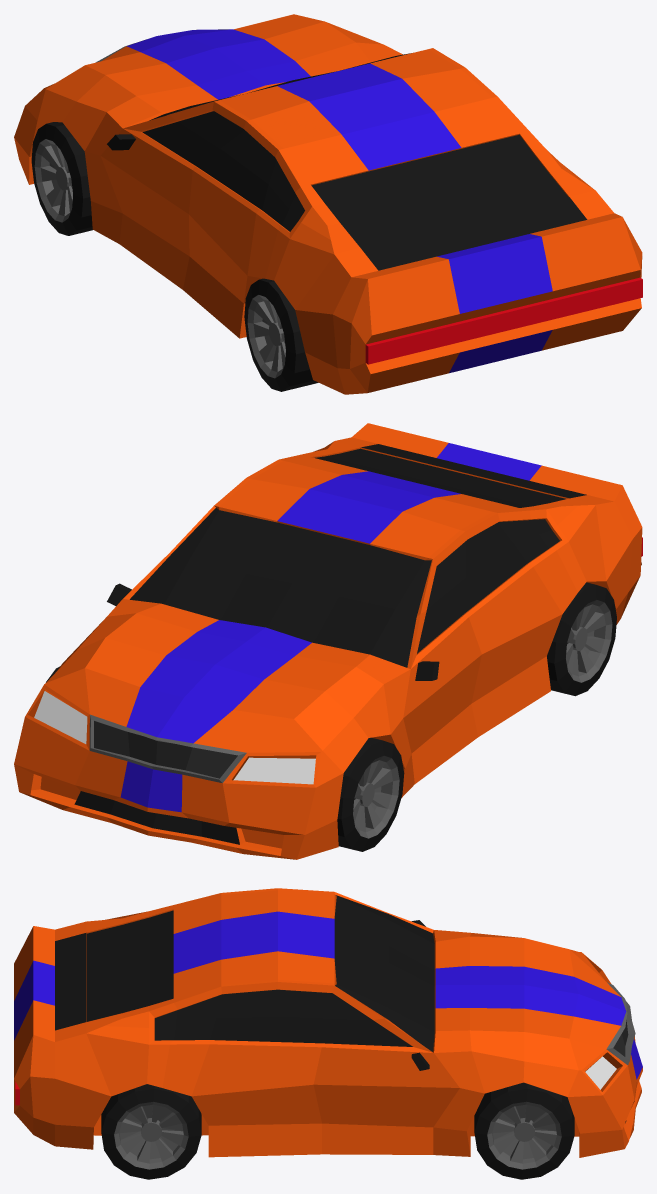
File: Hendrik_Car_V3.fbx
The picture shows the model from 3 angles, top to bottom: view 1: azimuth 30°, elevation 25°; view 2: azimuth 150°, elevation 25°; view 3: azimuth 270°, elevation 25°; orthographic projection. The views are drawn at different scales.
Visible parts, largest first — view 1: Object; view 2: Object; view 3: Object.
Boxes of the visible parts, left/top/right/bottom form: Object: left=14, top=14, right=642, bottom=394; Object: left=14, top=423, right=642, bottom=859; Object: left=14, top=888, right=642, bottom=1179.
Bounding box in the file's own units: 233 × 140 × 443.
